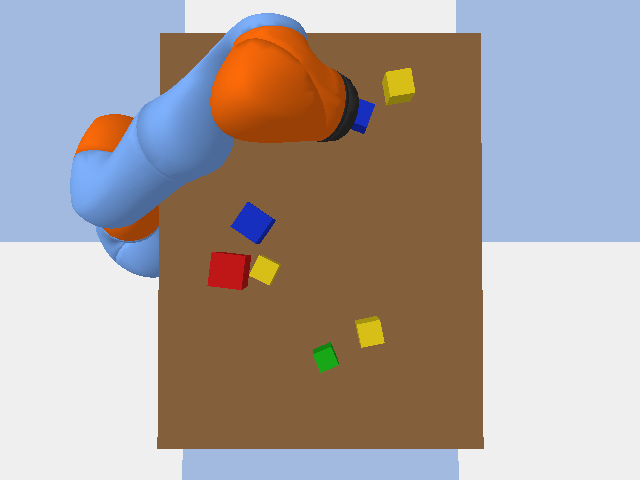blue_obj: (230, 202, 275, 243), (351, 99, 374, 133)
green_obj: (313, 342, 338, 372)
red_obj: (207, 252, 250, 289)
yellow_obj: (382, 68, 414, 105), (249, 255, 280, 285), (355, 316, 384, 347)
